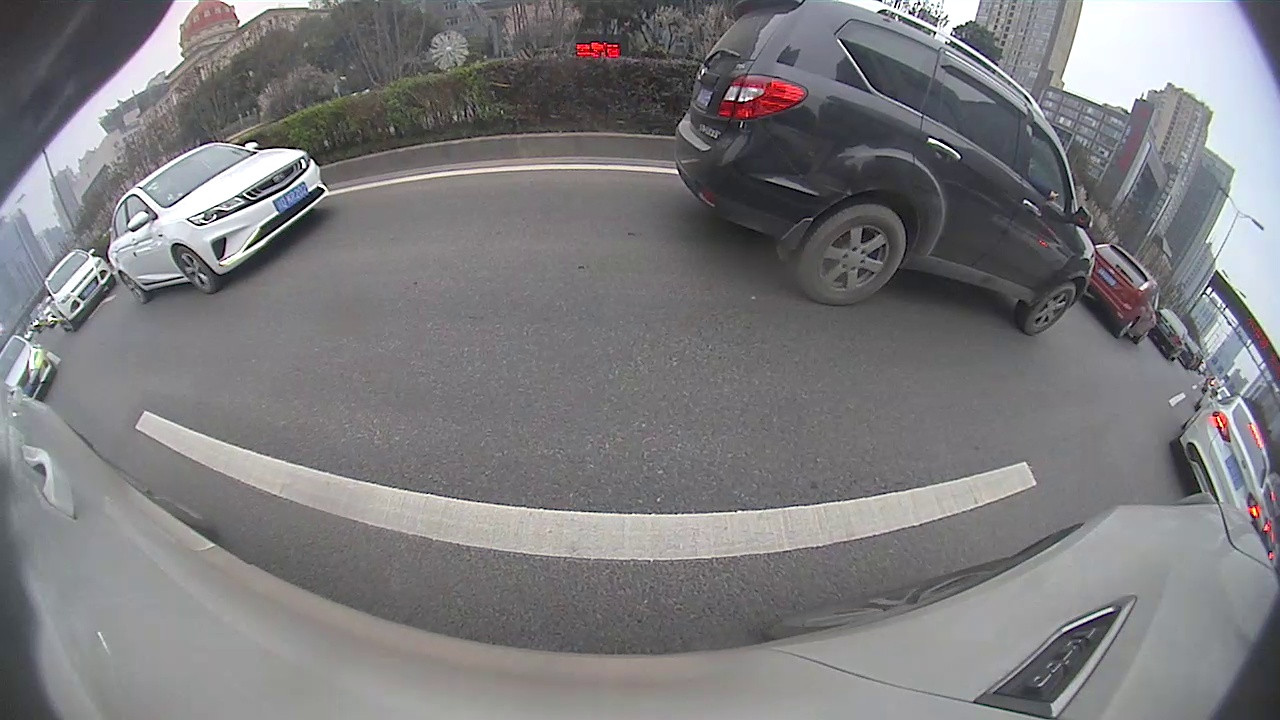car: (672, 2, 1097, 336), (106, 139, 332, 306), (1172, 393, 1271, 525), (1085, 244, 1160, 345), (42, 249, 115, 330), (2, 332, 59, 403), (1149, 306, 1191, 363)
front: (1022, 279, 1078, 334), (174, 245, 218, 295)
rear: (797, 202, 908, 307), (120, 270, 149, 304), (1118, 316, 1136, 338)
